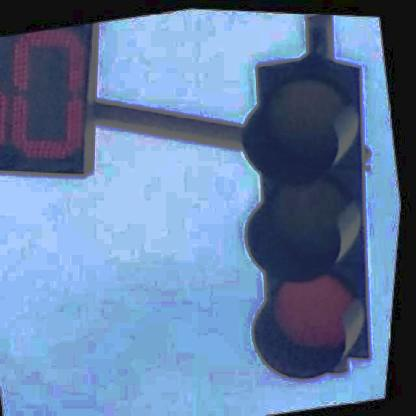Traffic Light -Red-: (202, 42, 413, 389)
